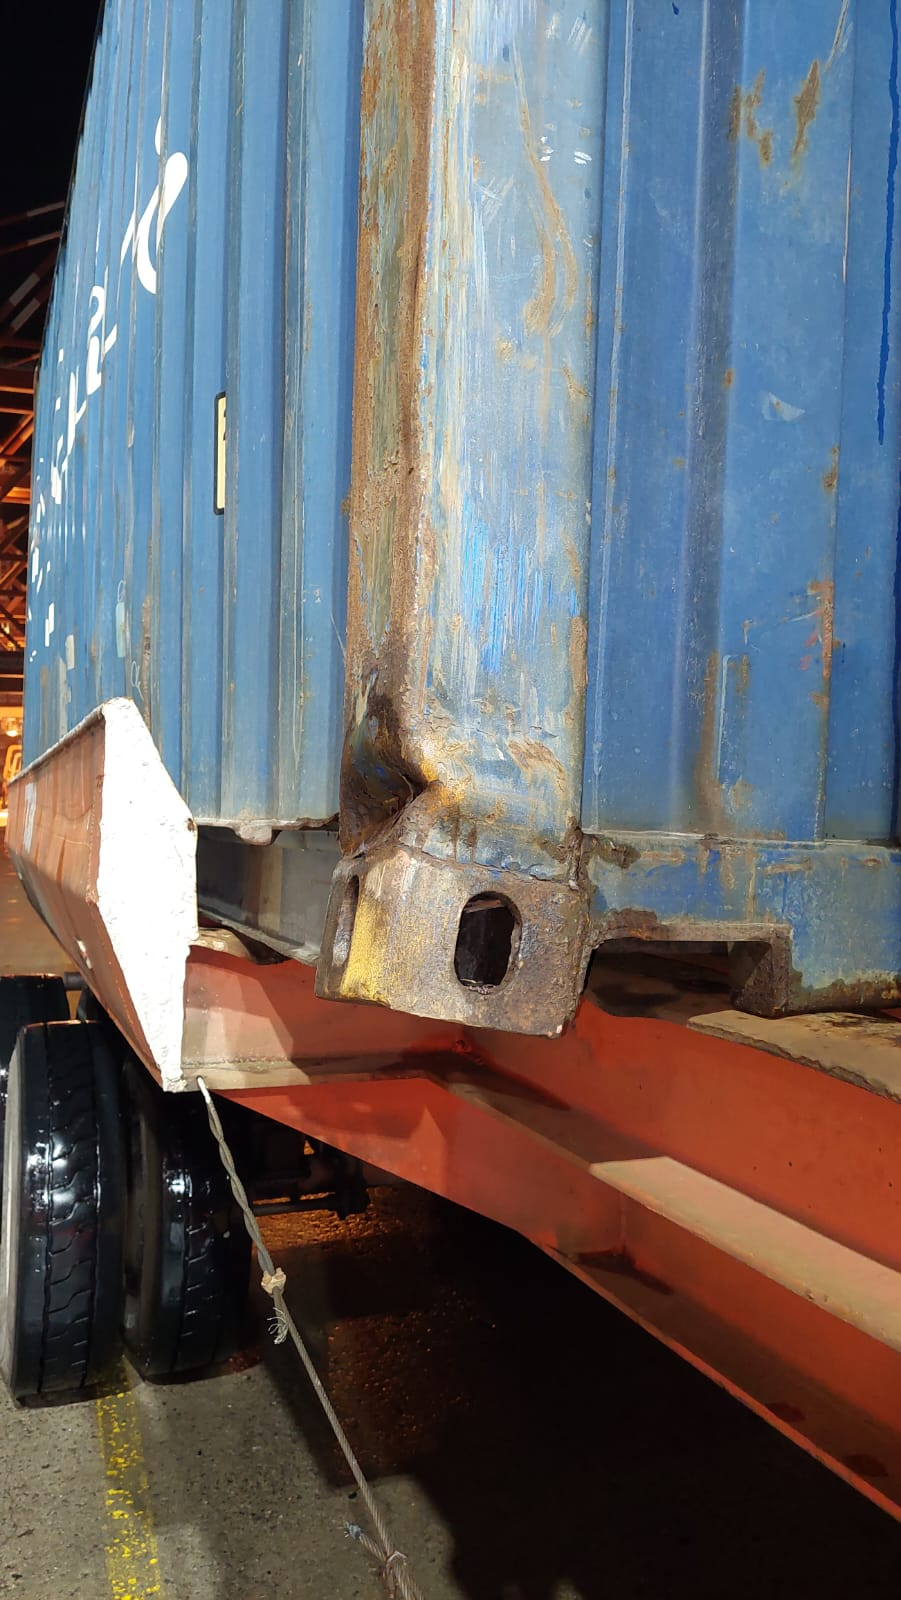bulged: (276, 627, 554, 962)
